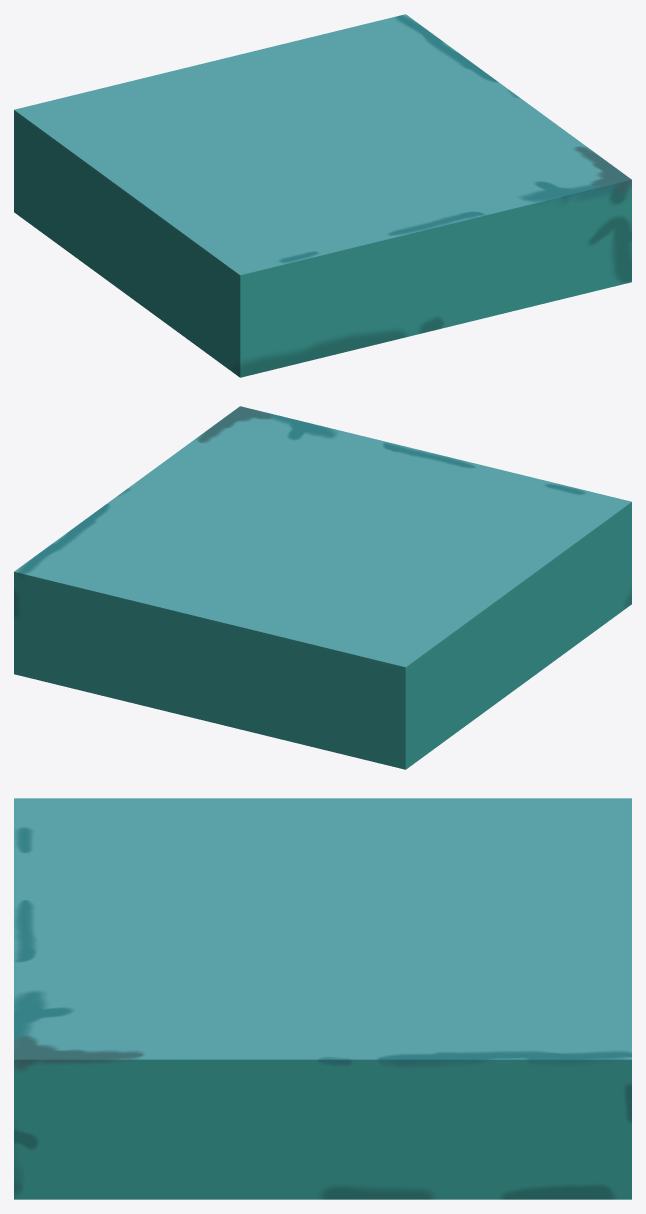
The model's file is Level2_Moving4.fbx.
The picture shows the model from 3 angles, top to bottom: view 1: azimuth 30°, elevation 25°; view 2: azimuth 150°, elevation 25°; view 3: azimuth 270°, elevation 25°; orthographic projection. The views are drawn at different scales.
Visible parts, largest first — view 1: MovingPiece4; view 2: MovingPiece4; view 3: MovingPiece4.
Part boxes in pixels (x1=…): MovingPiece4: x1=14, y1=14, x2=631, y2=377; MovingPiece4: x1=14, y1=406, x2=631, y2=769; MovingPiece4: x1=14, y1=798, x2=631, y2=1199.
Bounding box in the file's own units: 2 × 0.5 × 2.
1 material, 1 textured.
